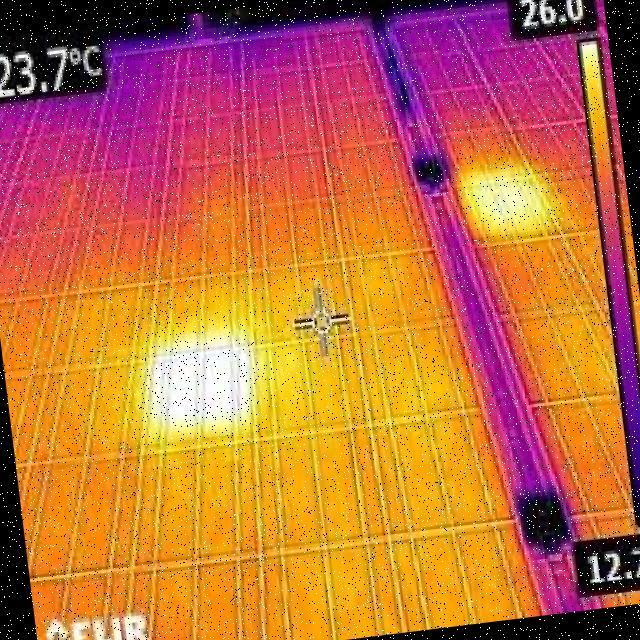Hotspot: (132, 306, 288, 464), (439, 140, 570, 268)
